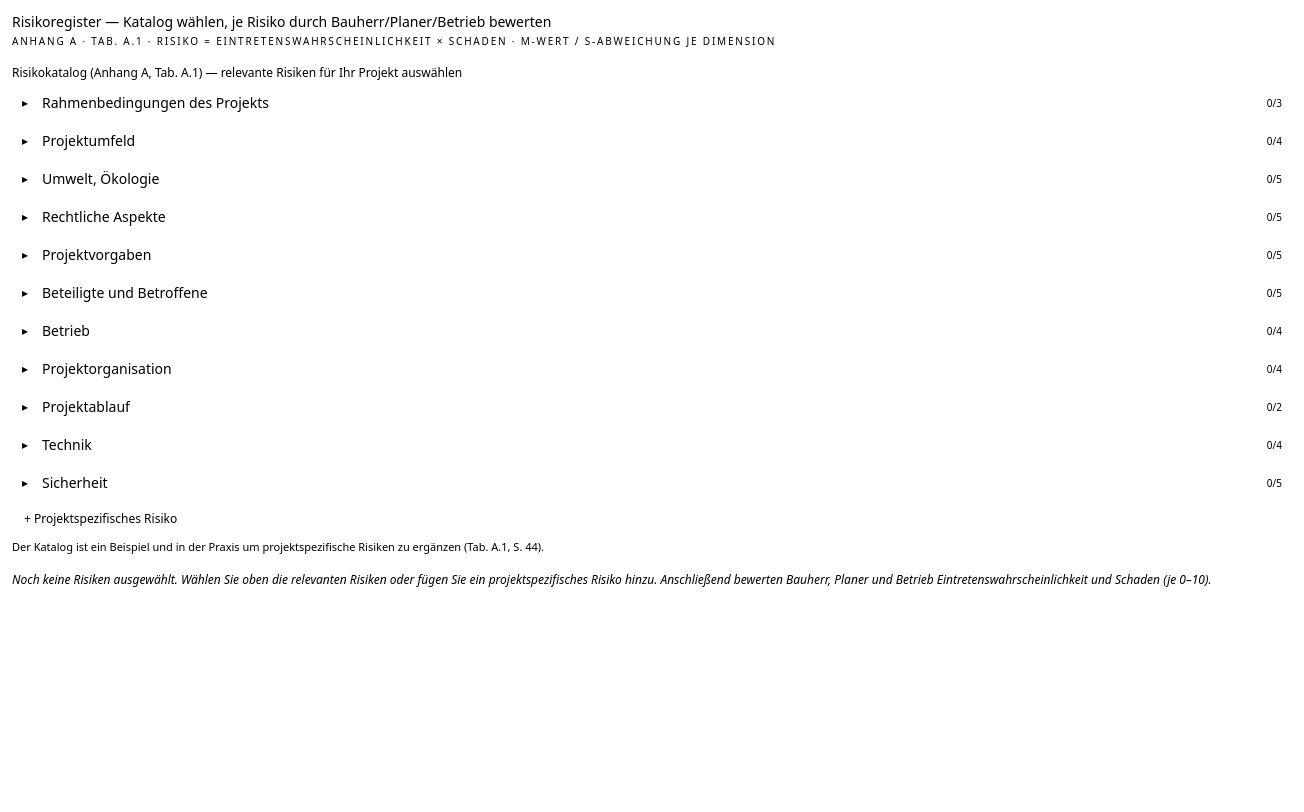
RiskRegisterEditor — catalogue + multi-assessor assessment › shows the guideline groups and their printed risks in the catalogue
Click the button "▸ Umwelt, Ökologie 0/5".
click(101, 178)  # box [12,163,1292,195]
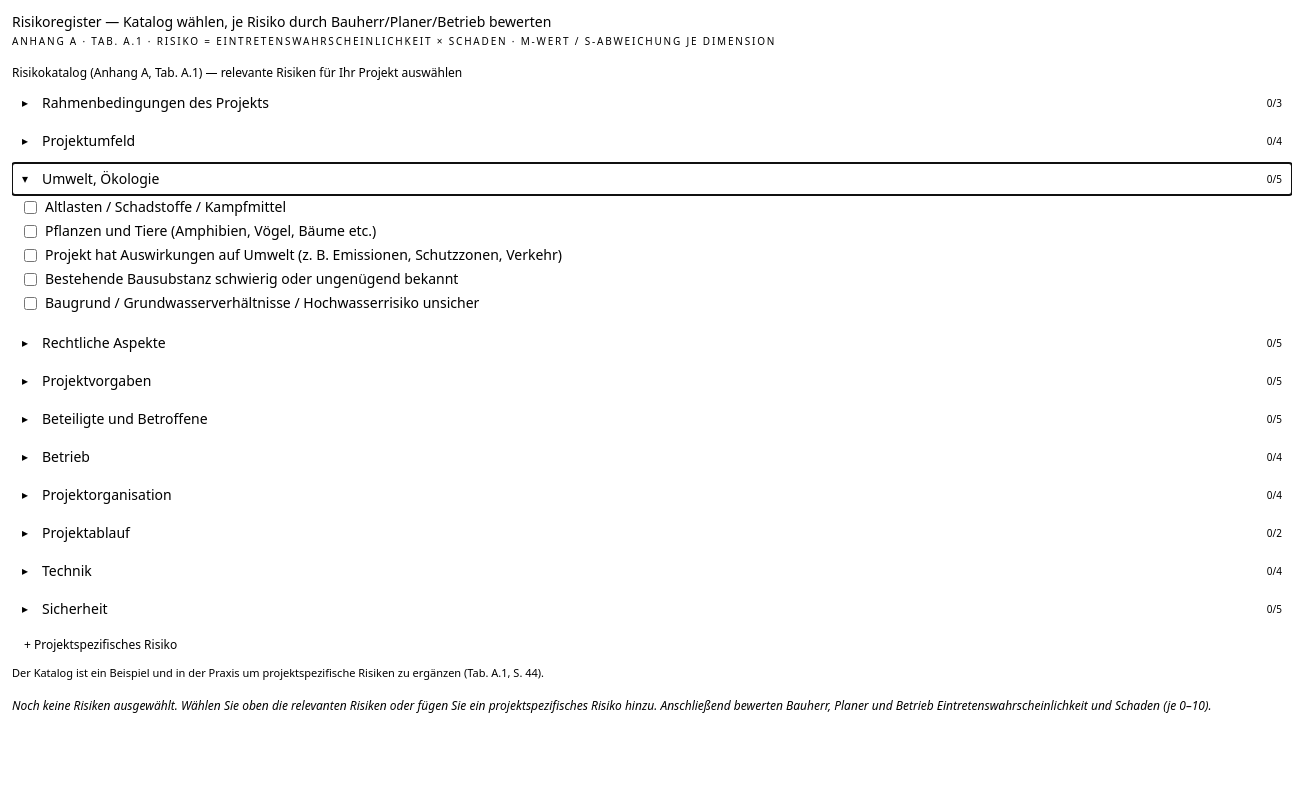
Expected: the checkbox labelled "Altlasten / Schadstoffe / Kampfmittel" is shown, [24,201,37,214]
